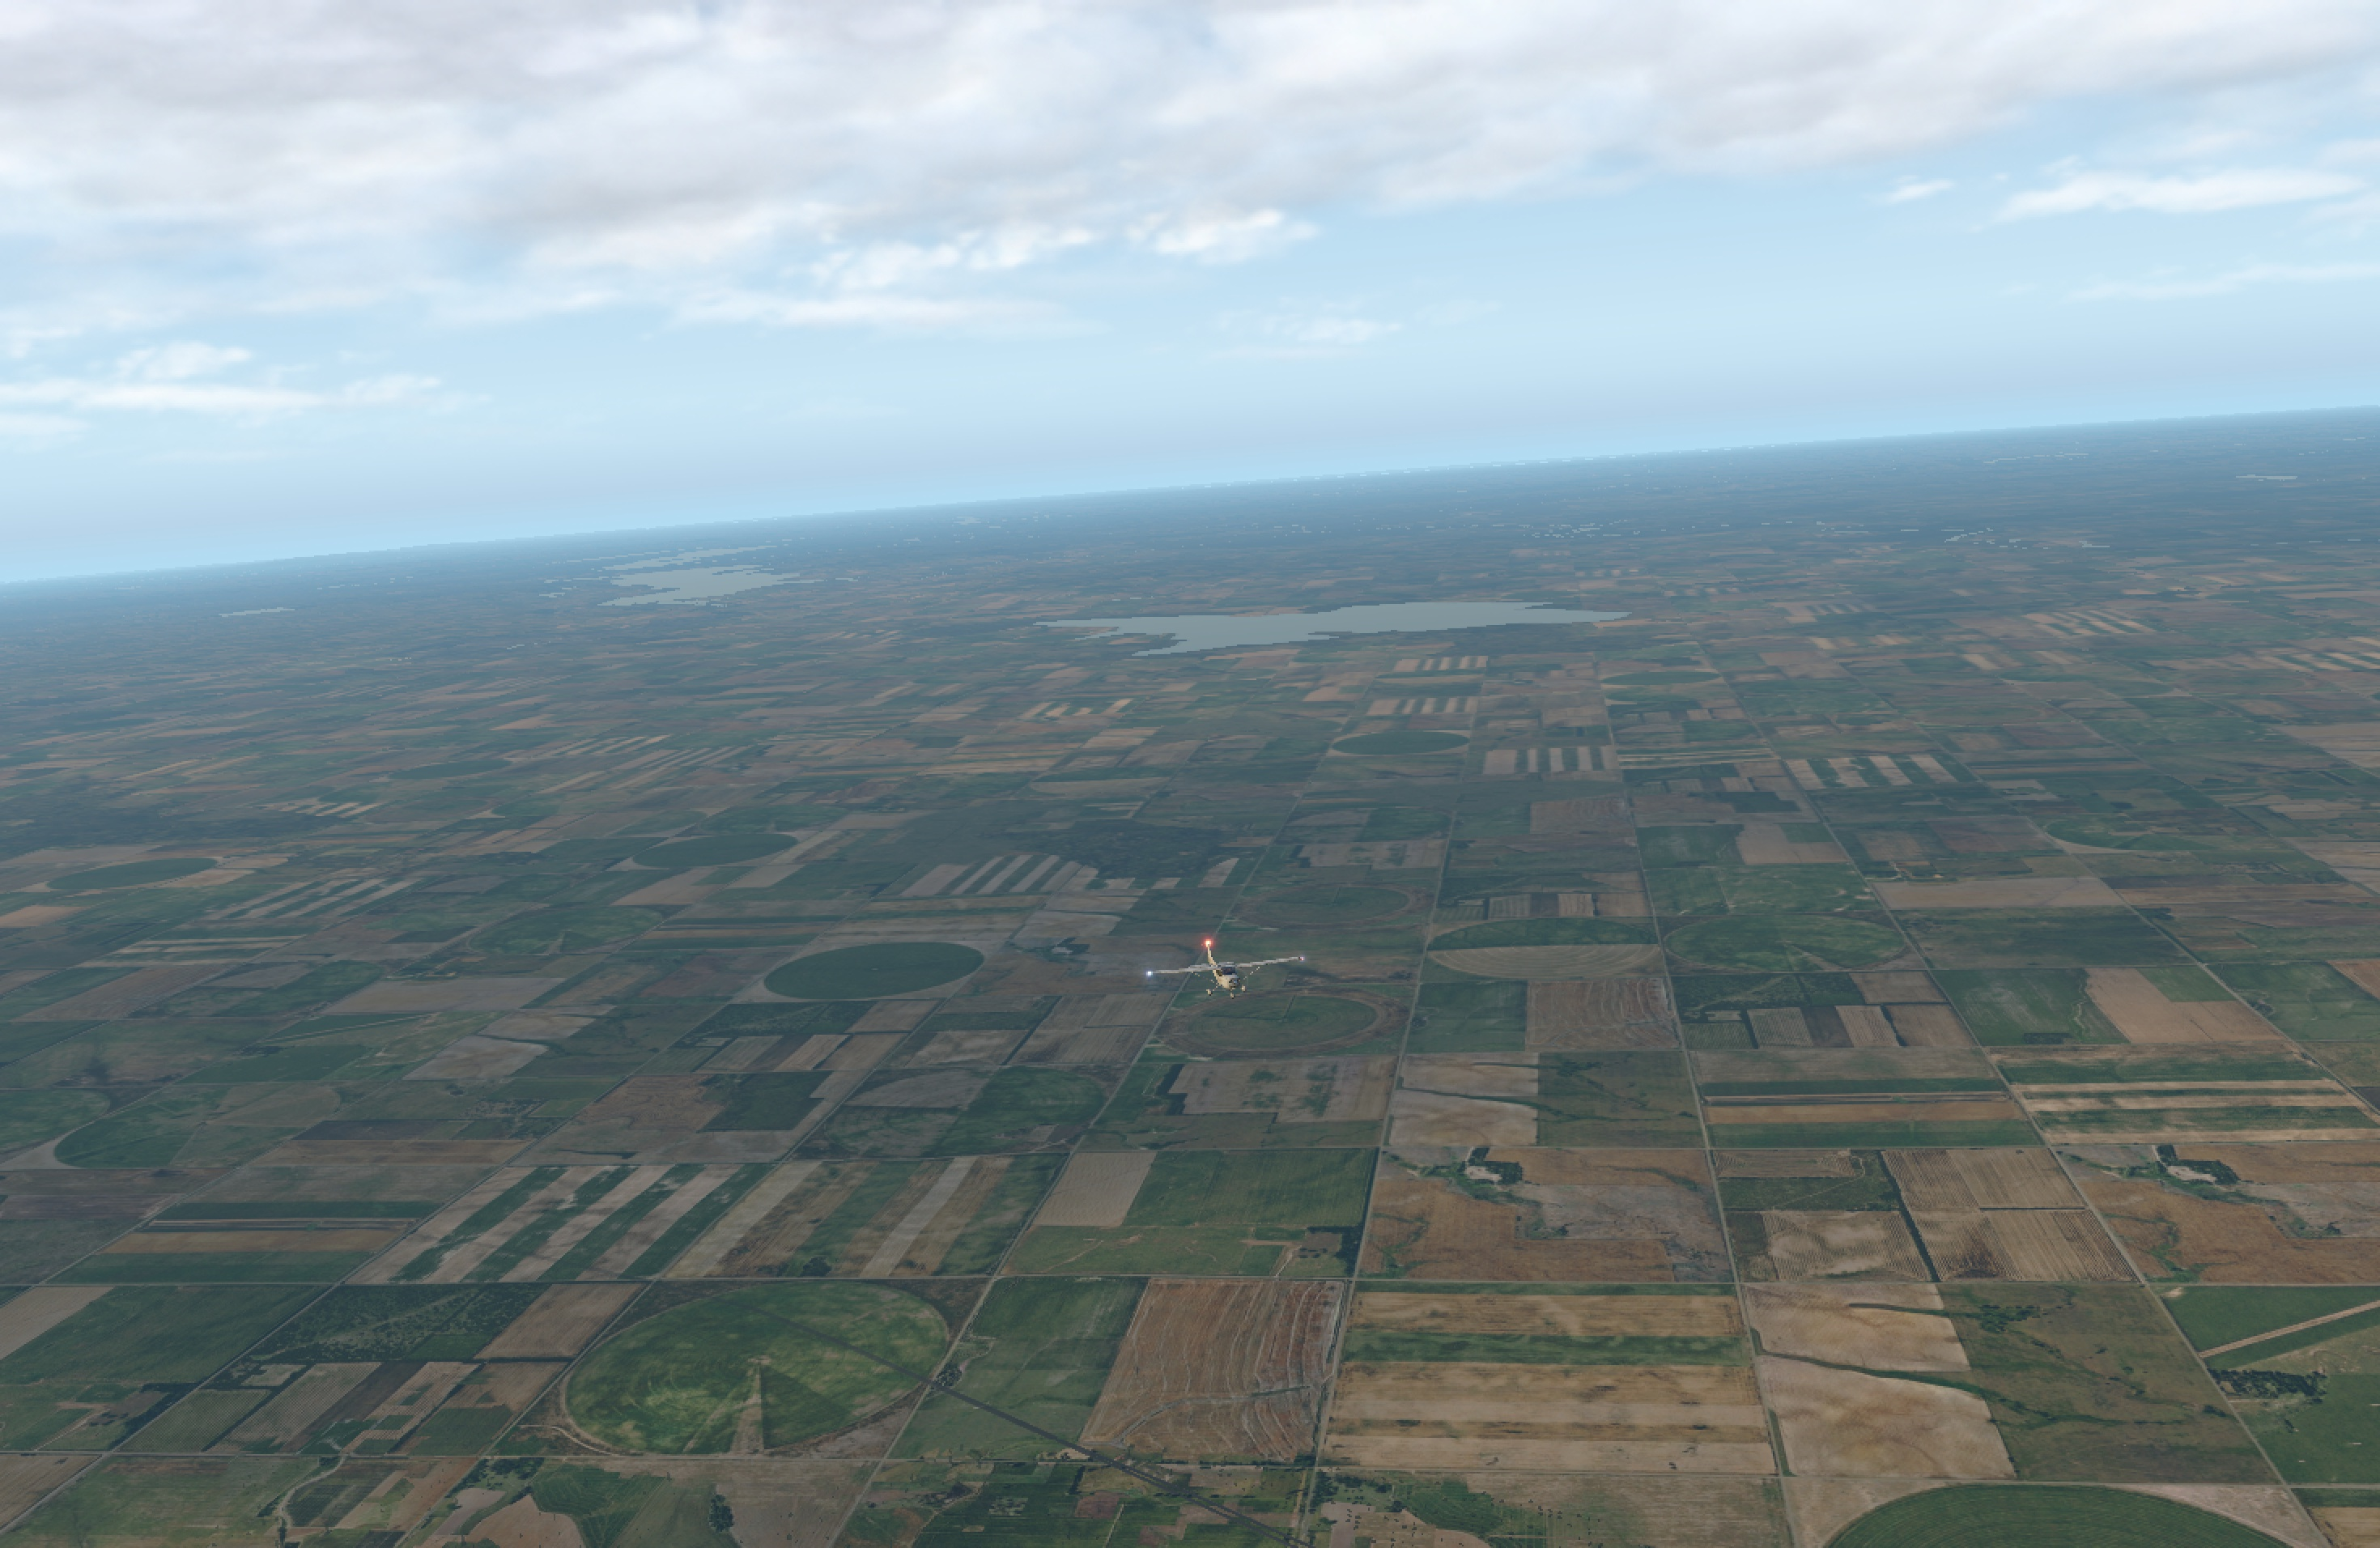aircraft: (1171, 954, 1284, 996)
